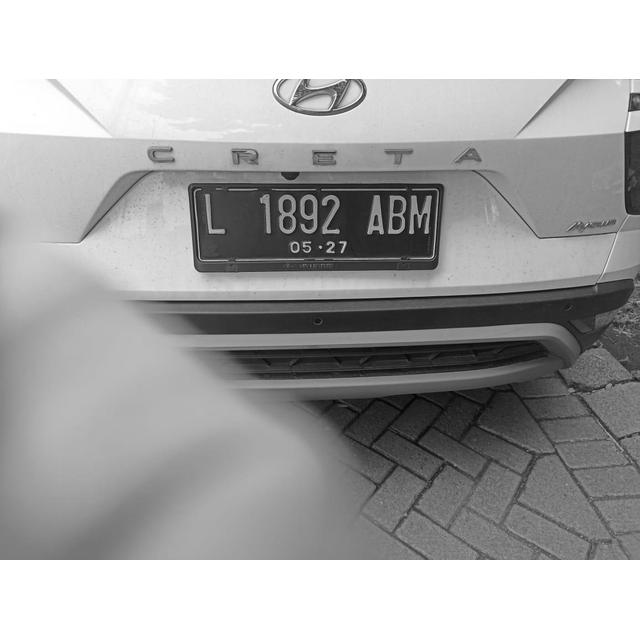license: (199, 191, 434, 255)
